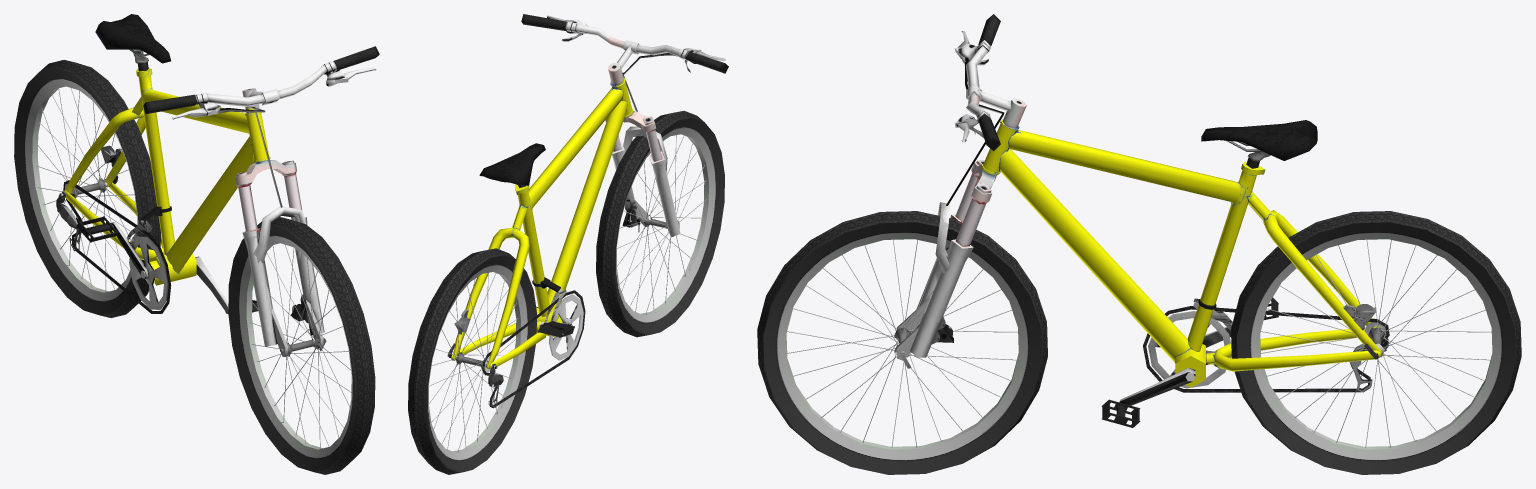
File: Green_.fbx
3 views of the same model, side by side, from view 1: azimuth 30°, elevation 25°; view 2: azimuth 150°, elevation 25°; view 3: azimuth 270°, elevation 25° (orthographic). The views are drawn at different scales.
Visible parts, largest first — view 1: bike_wheel_front, bike_wheel_rear, bike_seat.001, bike_seat.004, bike_seat.003, bike_chain_set, bike_seat.002, bike_chain, bike_seat.005, bike_pedal_R, bike_seat, bike_seat.007; view 2: bike_wheel_front, bike_wheel_rear, bike_seat.001, bike_seat.003, bike_seat.004, bike_seat.002, bike_chain_set, bike_chain, bike_seat, bike_seat.005, bike_pedal_R; view 3: bike_wheel_rear, bike_wheel_front, bike_seat.001, bike_seat.004, bike_seat.003, bike_seat.002, bike_chain_set, bike_chain, bike_seat.005, bike_seat.
Boxes of the visible parts, x1,y1,x2,y2 form: bike_wheel_front: (228, 217, 375, 474); bike_wheel_rear: (14, 60, 160, 317); bike_seat.001: (63, 68, 270, 285); bike_seat.004: (235, 160, 324, 346); bike_seat.003: (143, 46, 379, 207); bike_chain_set: (111, 222, 228, 312); bike_seat.002: (95, 14, 170, 71); bike_chain: (63, 180, 171, 313); bike_seat.005: (272, 294, 326, 356); bike_pedal_R: (76, 216, 118, 242); bike_seat: (101, 145, 152, 243); bike_seat.007: (56, 191, 82, 251); bike_wheel_front: (596, 110, 724, 337); bike_wheel_rear: (408, 248, 536, 474); bike_seat.001: (451, 78, 632, 369); bike_seat.003: (521, 14, 728, 111); bike_seat.004: (605, 110, 680, 237); bike_seat.002: (479, 143, 545, 187); bike_chain_set: (539, 294, 583, 360); bike_chain: (482, 290, 585, 408); bike_seat: (447, 288, 566, 357); bike_seat.005: (622, 200, 679, 232); bike_pedal_R: (538, 321, 574, 337); bike_wheel_rear: (1231, 211, 1521, 474); bike_wheel_front: (757, 211, 1047, 474); bike_seat.001: (981, 119, 1381, 387); bike_seat.004: (910, 160, 996, 357); bike_seat.003: (945, 14, 1026, 205); bike_seat.002: (1201, 120, 1317, 168); bike_chain_set: (1119, 311, 1231, 405); bike_chain: (1143, 306, 1389, 392); bike_seat.005: (897, 298, 953, 368); bike_seat: (1193, 298, 1378, 359).
Size of the model in its own units: 65.68 by 97.62 by 170.
